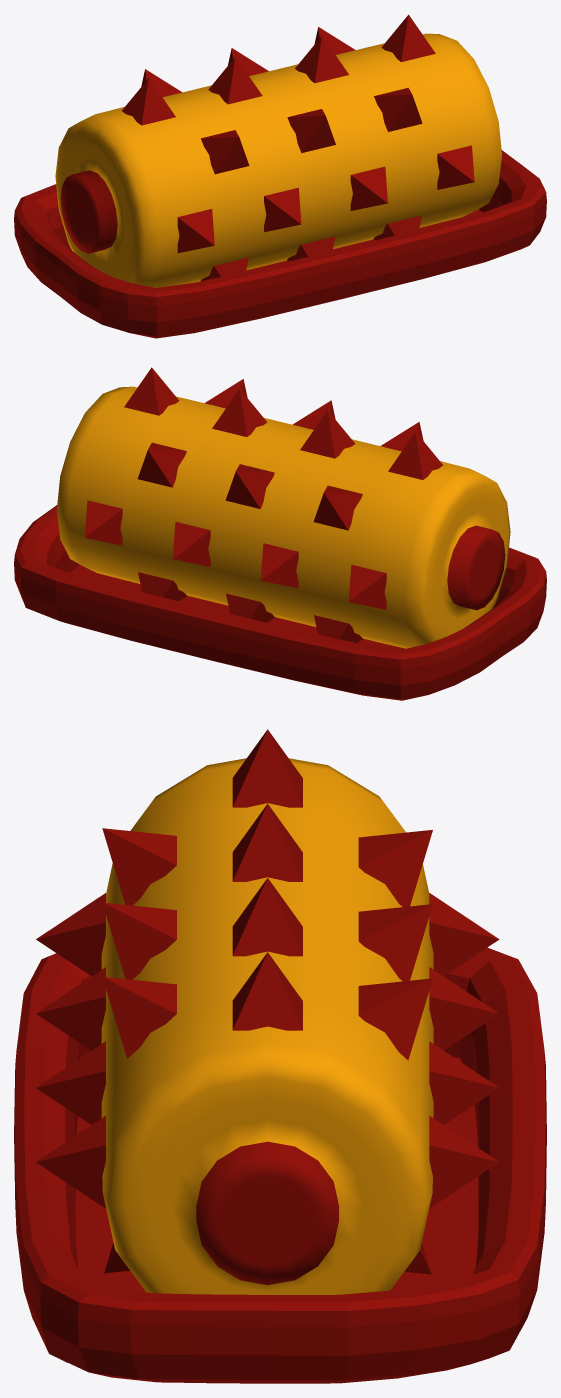
Rendered from Torpu.fbx.
3 renders of one model, top to bottom at view 1: azimuth 30°, elevation 25°; view 2: azimuth 150°, elevation 25°; view 3: azimuth 270°, elevation 25°, orthographic. The views are drawn at different scales.
Visible parts, largest first — view 1: Cylinder.006, Cube.001; view 2: Cylinder.006, Cube.001; view 3: Cylinder.006, Cube.001.
Boxes of the visible parts, x1,y1,x2,y2 form: Cylinder.006: (55, 14, 501, 287); Cube.001: (14, 150, 546, 338); Cylinder.006: (56, 367, 510, 648); Cube.001: (14, 505, 546, 700); Cylinder.006: (36, 729, 499, 1294); Cube.001: (14, 947, 546, 1383).
Size of the model in its own units: 5.16 by 2.64 by 3.03.
